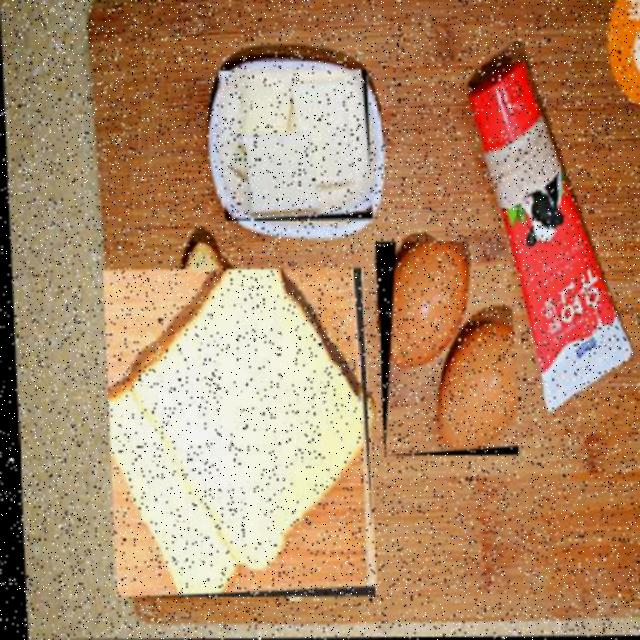Bread: (101, 267, 374, 598)
Butter: (218, 68, 372, 221)
Egg: (373, 241, 516, 456)
